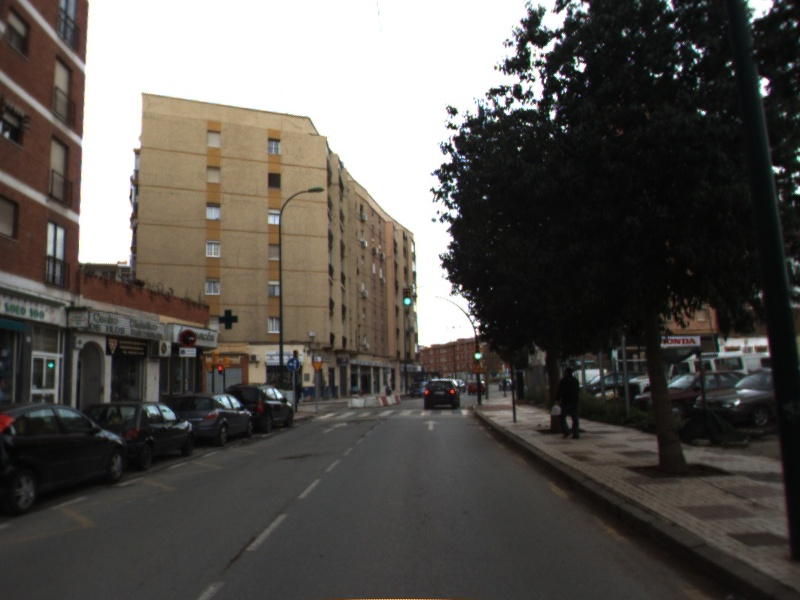STRAIGHT: (320, 420, 350, 435), (420, 418, 441, 432)
